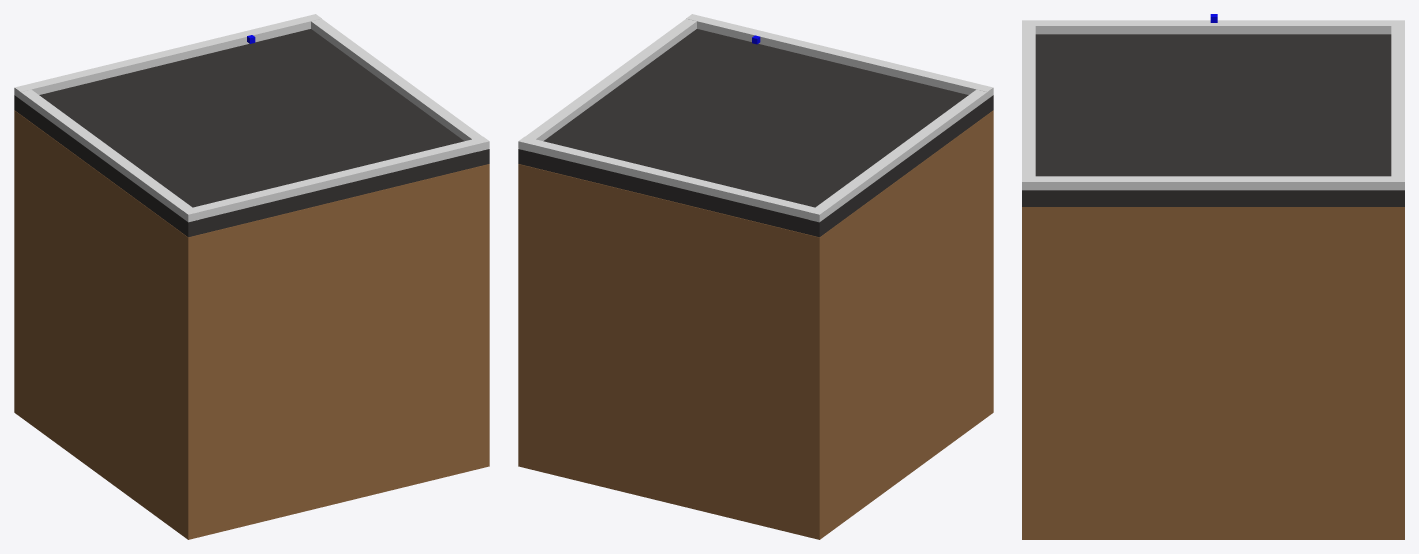
The model's file is road-1.gltf.
3 renders of one model, left to right at view 1: azimuth 30°, elevation 25°; view 2: azimuth 150°, elevation 25°; view 3: azimuth 270°, elevation 25°, orthographic. The views are drawn at different scales.
Visible parts, largest first — view 1: Block, Road, BorderX1, BorderX2, BorderY2, BorderY1; view 2: Block, Road, BorderX2, BorderX1, BorderY2, BorderY1; view 3: Block, Road, BorderY1, BorderY2, BorderX1, BorderX2.
Boxes of the visible parts, x1,y1,x2,y2 form: Block: (14, 110, 489, 539); Road: (14, 29, 489, 237); BorderX1: (182, 136, 489, 219); BorderX2: (15, 14, 321, 94); BorderY2: (14, 87, 198, 222); BorderY1: (311, 18, 489, 151); Block: (518, 110, 993, 539); Road: (518, 29, 993, 237); BorderX2: (518, 136, 825, 219); BorderX1: (686, 14, 992, 94); BorderY2: (809, 87, 993, 222); BorderY1: (518, 18, 696, 151); Block: (1022, 207, 1404, 539); Road: (1022, 34, 1404, 206); BorderY1: (1035, 176, 1391, 190); BorderY2: (1035, 20, 1391, 34); BorderX1: (1022, 20, 1035, 190); BorderX2: (1391, 20, 1404, 190).
Bounding box in the file's own units: 2 × 2.56 × 2.
